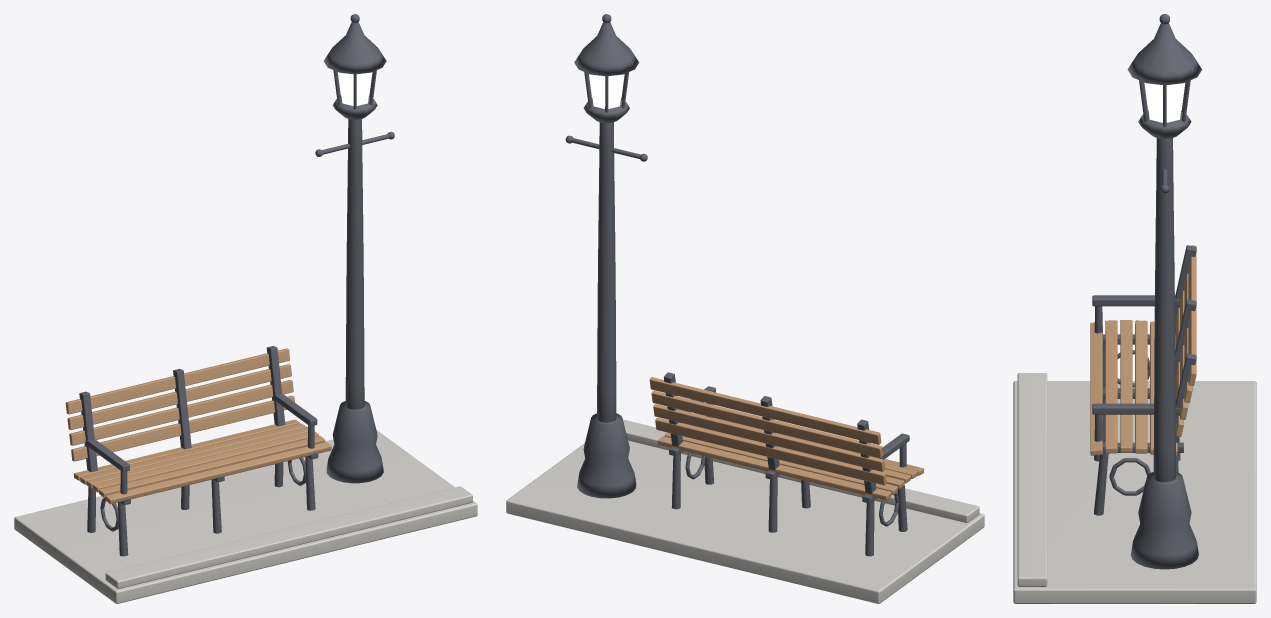
File: webtoon-street-bench-lamp-v13.glb
3 renders of one model, left to right at view 1: azimuth 30°, elevation 25°; view 2: azimuth 150°, elevation 25°; view 3: azimuth 270°, elevation 25°, orthographic. The views are drawn at different scales.
Visible parts, largest first — view 1: StreetPavingBase, BenchWoodSlats, BenchAndLampIron, StreetLanternCore; view 2: StreetPavingBase, BenchAndLampIron, BenchWoodSlats, StreetLanternCore; view 3: StreetPavingBase, BenchAndLampIron, BenchWoodSlats, StreetLanternCore.
Part boxes in pixels (left/top/right/bottom): StreetPavingBase: left=14, top=430, right=477, bottom=603; BenchWoodSlats: left=65, top=348, right=331, bottom=504; BenchAndLampIron: left=79, top=14, right=394, bottom=556; StreetLanternCore: left=338, top=72, right=371, bottom=105; StreetPavingBase: left=506, top=419, right=984, bottom=603; BenchAndLampIron: left=565, top=14, right=909, bottom=556; BenchWoodSlats: left=649, top=377, right=924, bottom=500; StreetLanternCore: left=589, top=74, right=623, bottom=108; StreetPavingBase: left=1013, top=373, right=1256, bottom=603; BenchAndLampIron: left=1092, top=14, right=1201, bottom=569; BenchWoodSlats: left=1090, top=245, right=1196, bottom=455; StreetLanternCore: left=1145, top=83, right=1184, bottom=122.
Size of the model in its own units: 2.32 by 2.87 by 1.14.
